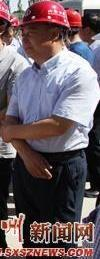boots: (0, 142, 9, 150), (0, 140, 8, 148)
hard-hat: (0, 0, 42, 23)
